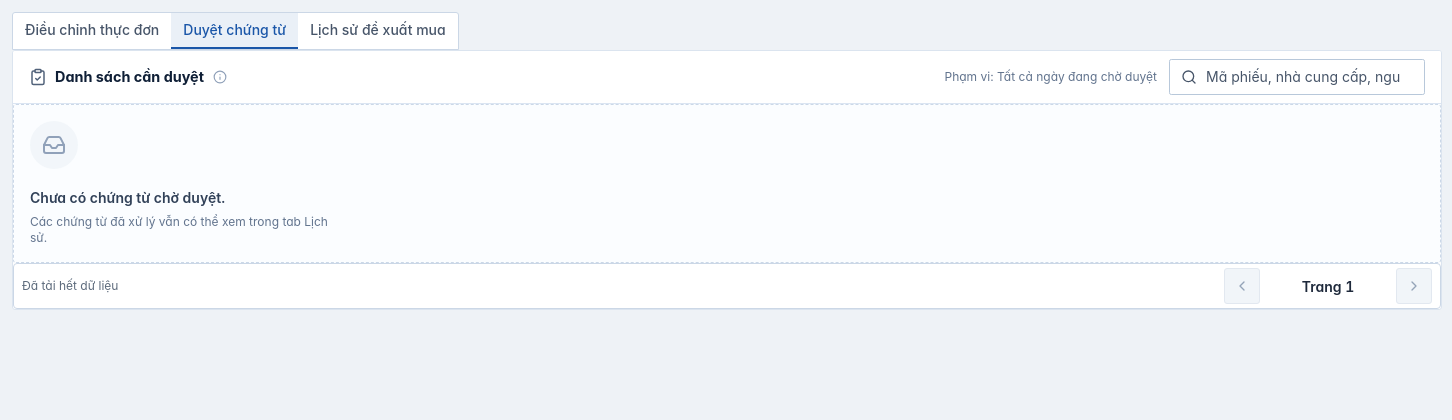
Test: ApprovalPage query state boundary › renders approval-history forbidden without a retry
The width and height of the screenshot is (1452, 420).
Step 1. Click the tab "Lịch sử đề xuất mua" → (378, 31), box [298, 13, 458, 49]
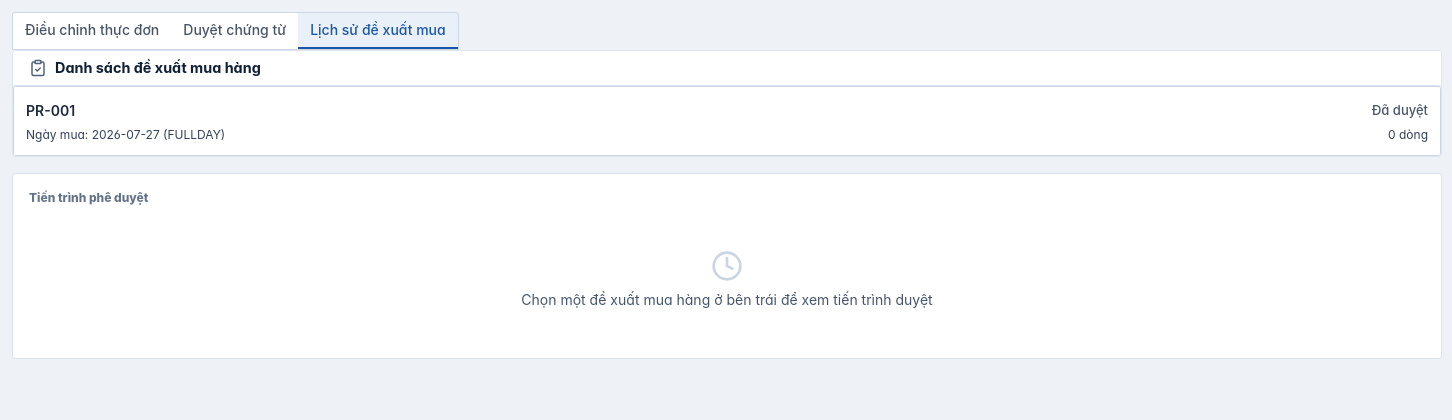
Step 2. Click the button "PR-001 Đã duyệt Ngày mua: 2026-07-27 (FULLDAY) 0 dòng" → (51, 110), box [13, 86, 1441, 156]
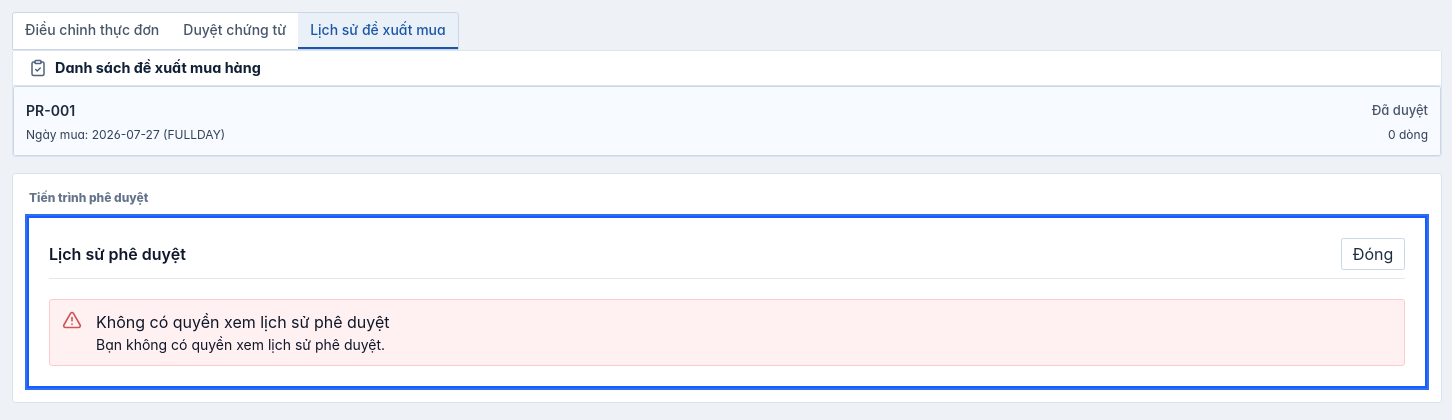
Result: the text "Bạn không có quyền xem lịch sử phê duyệt." is shown at [96, 336, 385, 353]
